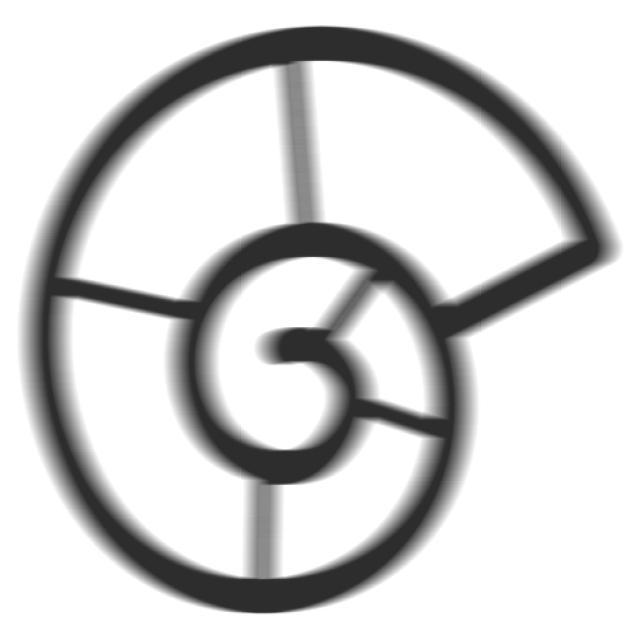fossil: (12, 15, 630, 625)
